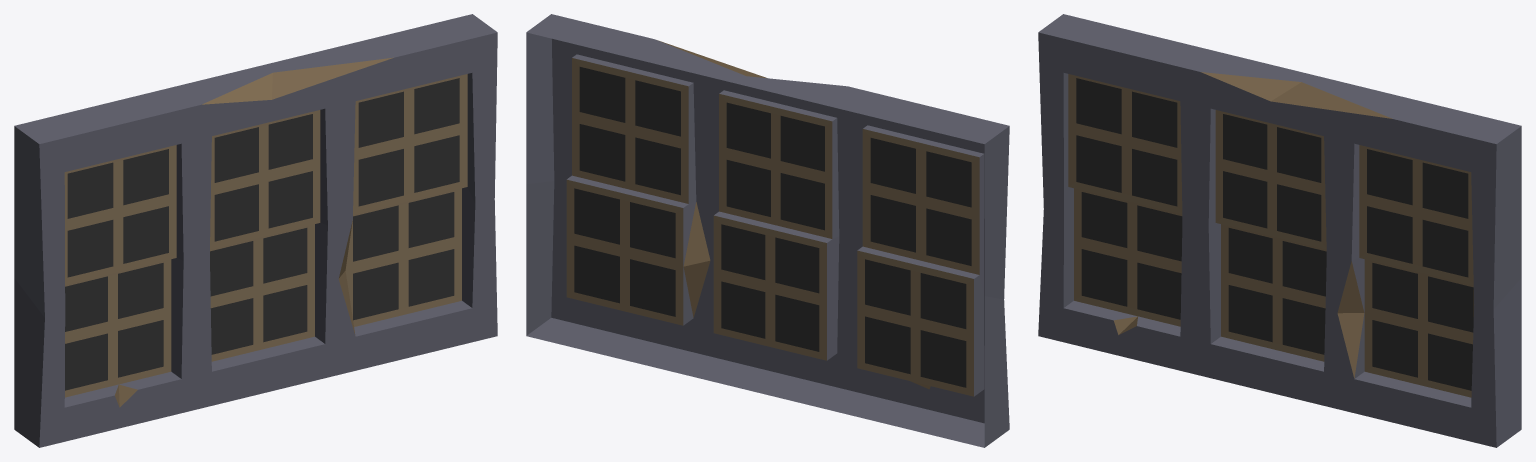
File: SM_Prop_Window_01.fbx
3 renders of one model, left to right at view 1: azimuth 30°, elevation 25°; view 2: azimuth 150°, elevation 25°; view 3: azimuth 330°, elevation 25°, orthographic.
Visible parts, largest first — view 1: SM_Prop_Window_01; view 2: SM_Prop_Window_01; view 3: SM_Prop_Window_01.
Part boxes in pixels (x1,y1,x2,y2): SM_Prop_Window_01: [14, 14, 497, 447]; SM_Prop_Window_01: [526, 14, 1009, 447]; SM_Prop_Window_01: [1038, 14, 1521, 447].
Size of the model in its own units: 1.99 by 1.26 by 0.1891.
